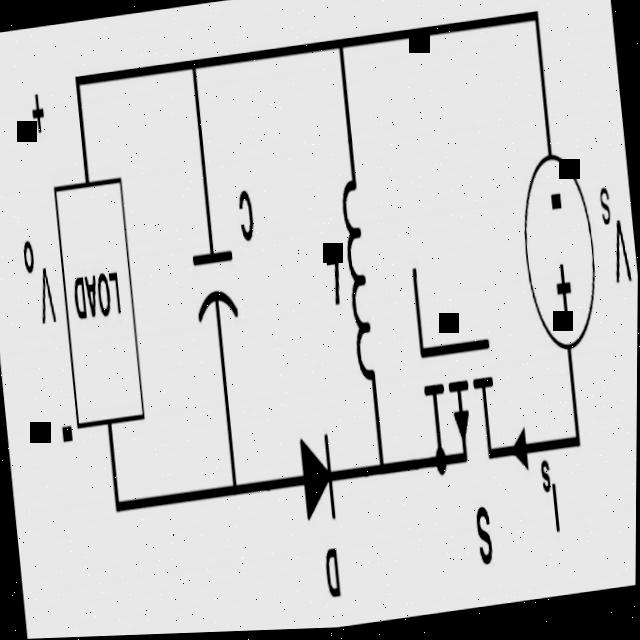capacitor: (177, 210, 252, 363)
diode: (288, 413, 353, 546)
inductor: (328, 152, 393, 409)
mosfet: (400, 248, 513, 499)
resistor: (45, 158, 156, 448)
source: (505, 130, 615, 379)
